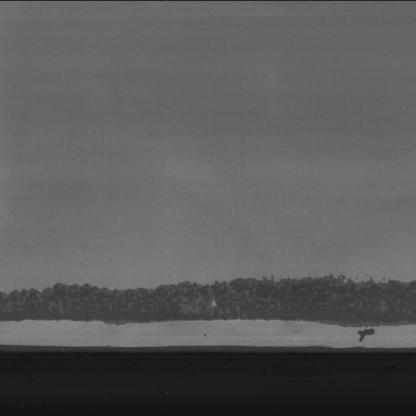oil_spot: (6, 259, 416, 331)
